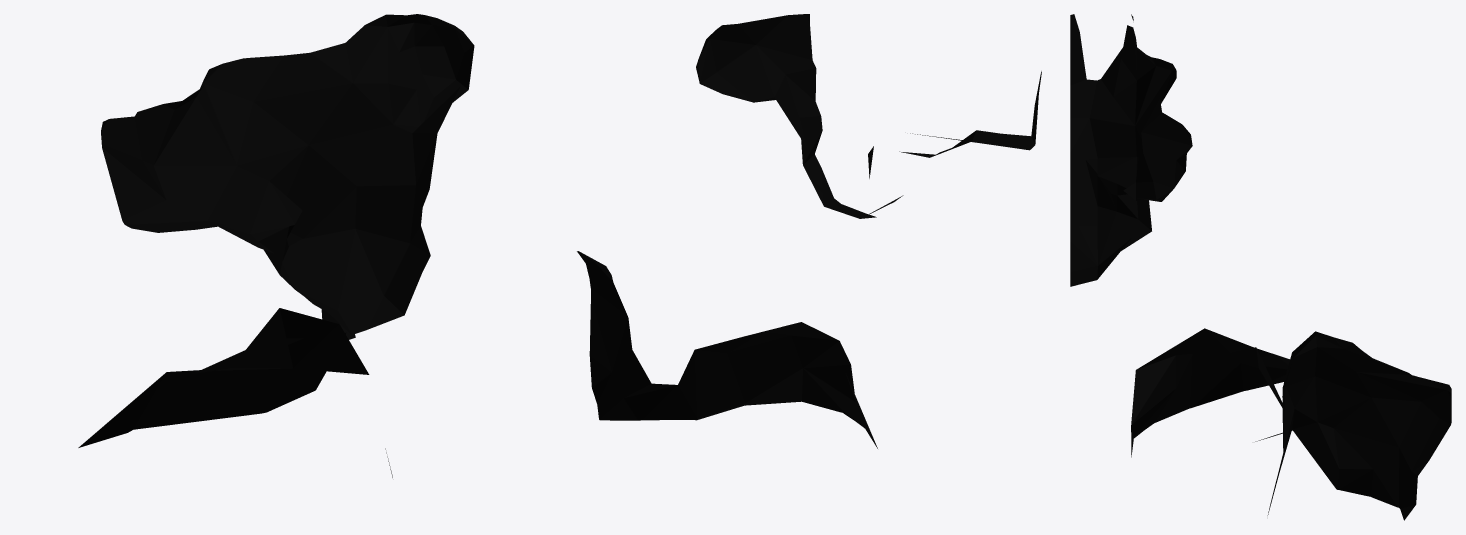
3 views of the same model, side by side, from view 1: azimuth 30°, elevation 25°; view 2: azimuth 150°, elevation 25°; view 3: azimuth 270°, elevation 25° (orthographic). The views are drawn at different scales.
Bounding box in the file's own units: 0.8374 × 0.8373 × 0.8374.
3 materials, 3 textured.
